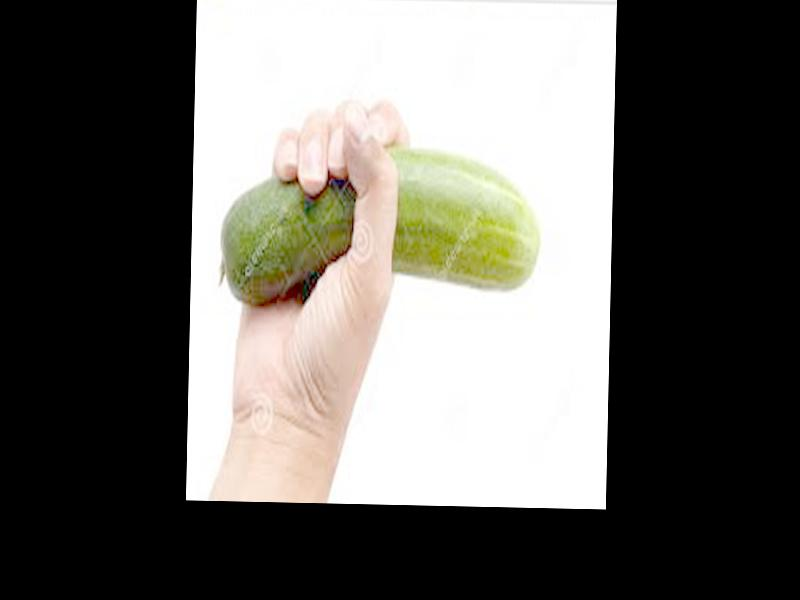Cucumber: (221, 140, 542, 310)
